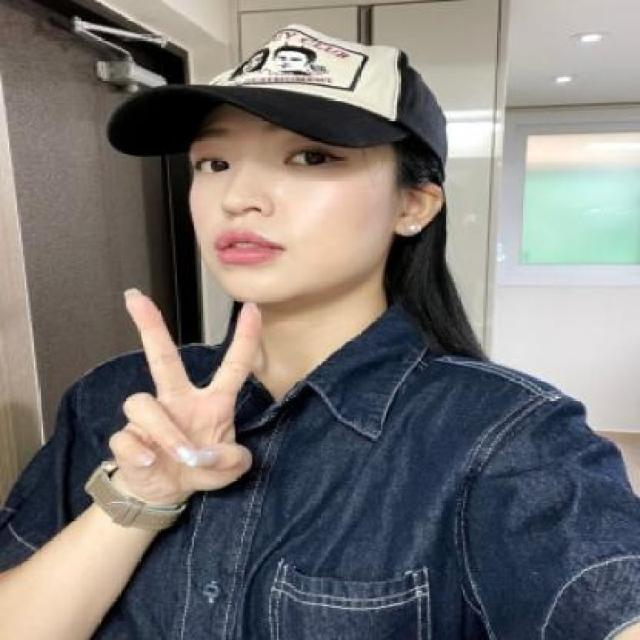hat: (101, 25, 450, 194)
